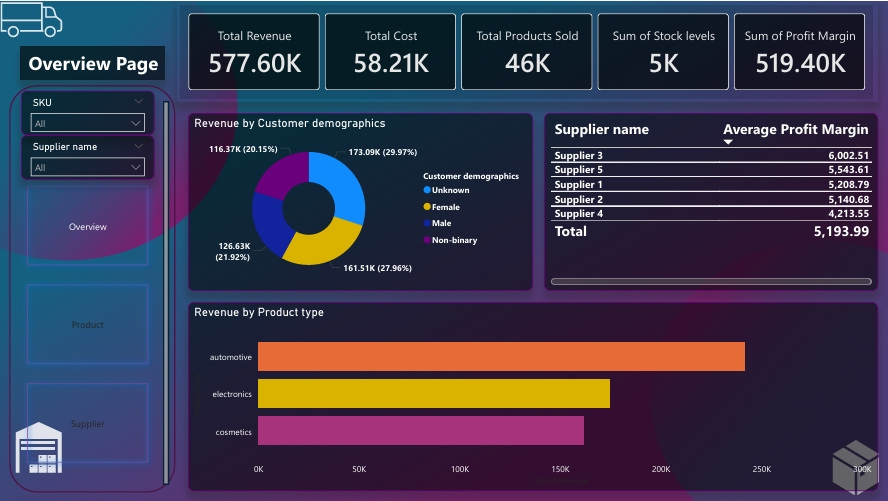

The page's visual inventory and layout, read from the dashboard file:
{"tool":"powerbi","page":{"name":"Overview","canvas":[1280,720],"ordinal":0},"visuals":[{"type":"cardVisual","fields":{"Data":["supply_chain_data_updated.Total Revenue","supply_chain_data_updated.Total Cost","supply_chain_data_updated.Total Products Sold","Sum(supply_chain_data_updated.Stock levels)","Sum(supply_chain_data_updated.Profit Margin)"]},"box":[256,0,1008,144],"z":0},{"type":"donutChart","title":"Revenue by Customer demographics","fields":{"Y":["Sum(supply_chain_data_updated.Revenue)"],"Category":["supply_chain_data_updated.Customer demographics"]},"box":[272,160,496,256],"z":1000},{"type":"barChart","title":"Revenue by Product type","fields":{"Y":["Sum(supply_chain_data_updated.Revenue)"],"Category":["supply_chain_data_updated.Product type"]},"box":[272,432,992,272],"z":2000},{"type":"tableEx","fields":{"Values":["supply_chain_data_updated.Supplier name","supply_chain_data_updated.Average PRofit Margin"]},"box":[784,160,480,256],"z":3000},{"type":"pageNavigator","box":[32,256,192,416],"z":3001},{"type":"textbox","box":[32,64,208,48],"z":3002},{"type":"slicer","fields":{"Values":["supply_chain_data_updated.SKU"]},"box":[32,128,192,64],"z":3003},{"type":"slicer","fields":{"Values":["supply_chain_data_updated.Supplier name"]},"box":[32,192,192,64],"z":3004}]}

Visuals, with their boxes in screenshot pixels (x1, y1, x2, y2), scaled from the page's 1280x720 canvas onto the 888x501 screenshot:
cardVisual - supply_chain_data_updated.Total Revenue x supply_chain_data_updated.Total Cost: [left=178, top=0, right=877, bottom=100]
"Revenue by Customer demographics" donutChart: [left=189, top=111, right=533, bottom=289]
"Revenue by Product type" barChart: [left=189, top=301, right=877, bottom=490]
tableEx - supply_chain_data_updated.Supplier name x supply_chain_data_updated.Average PRofit Margin: [left=544, top=111, right=877, bottom=289]
pageNavigator: [left=22, top=178, right=155, bottom=468]
textbox: [left=22, top=45, right=166, bottom=78]
slicer - supply_chain_data_updated.SKU: [left=22, top=89, right=155, bottom=134]
slicer - supply_chain_data_updated.Supplier name: [left=22, top=134, right=155, bottom=178]
